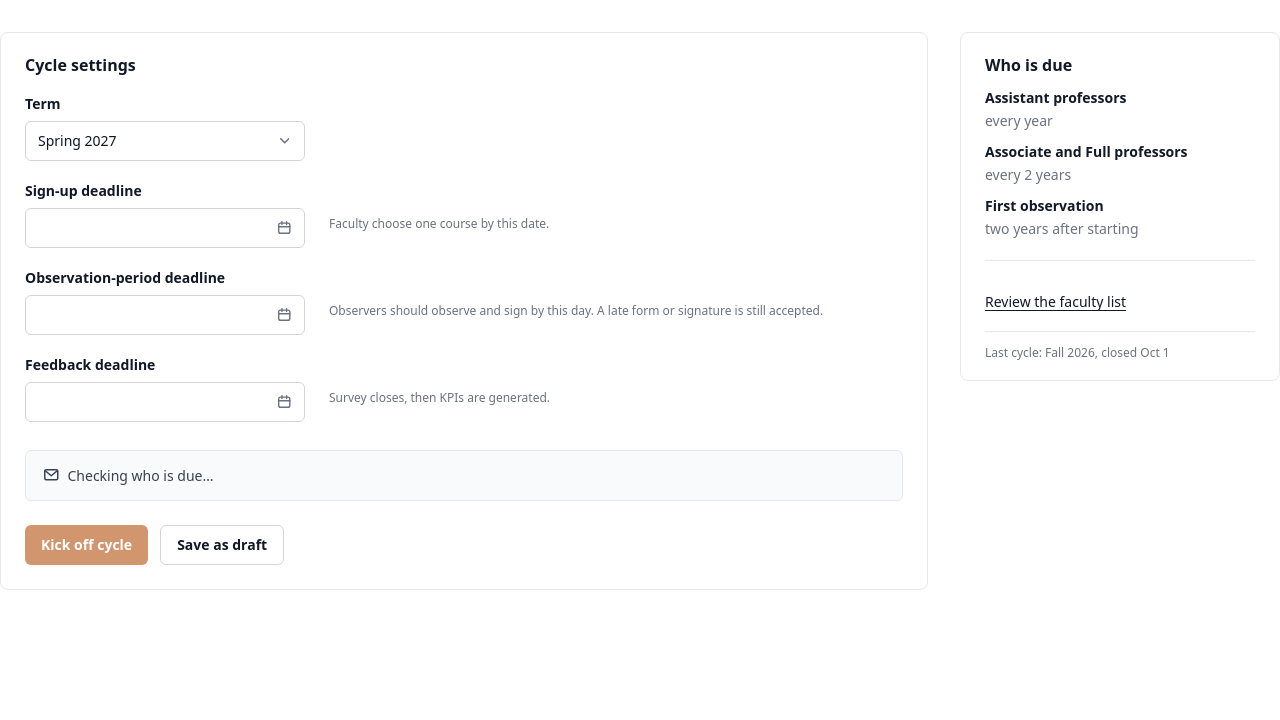
Test case: Cycle page: starting a cycle › shows the server error 400 INVALID_CYCLE as sent and keeps the input
Check: the dropdown labelled "Term" is shown, box [25,121,305,161]
Type "2027-01-15" into the date field labelled "Sign-up deadline". click: (165, 228)
box: [25,208,305,248]
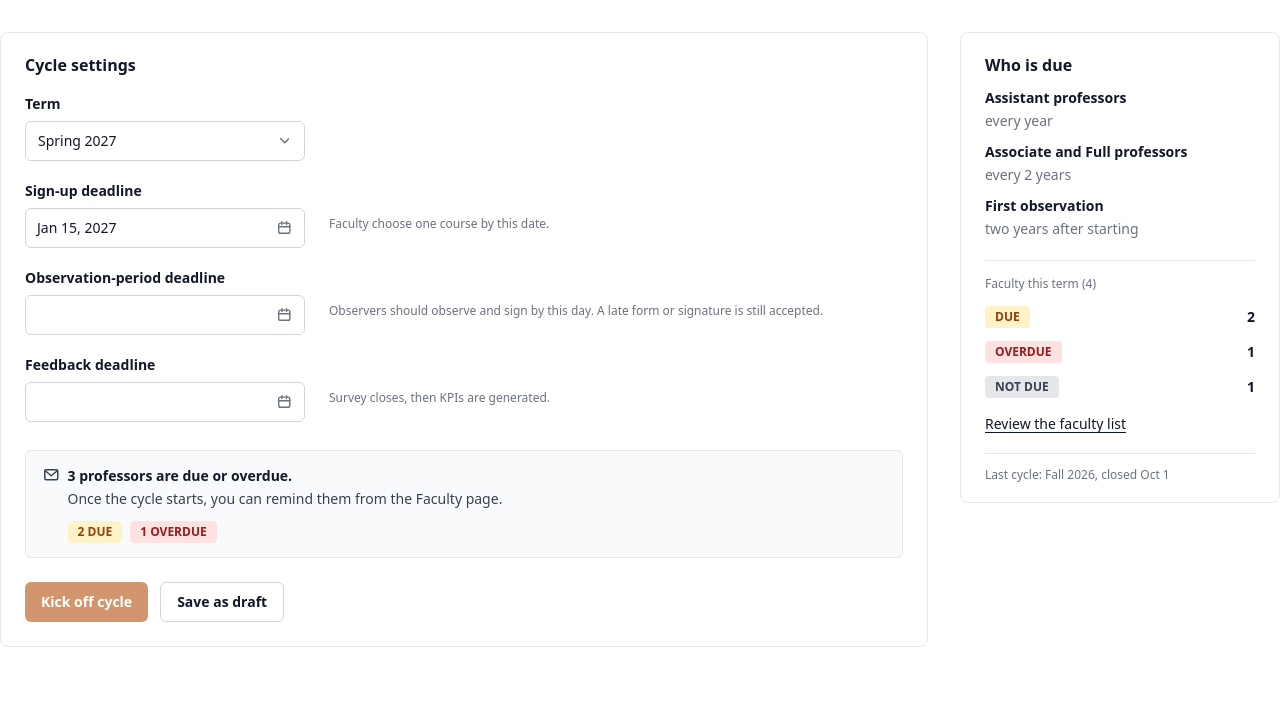
Type "2027-03-01" into the date field labelled "Observation-period deadline". click: (165, 315)
box: [25,295,305,335]
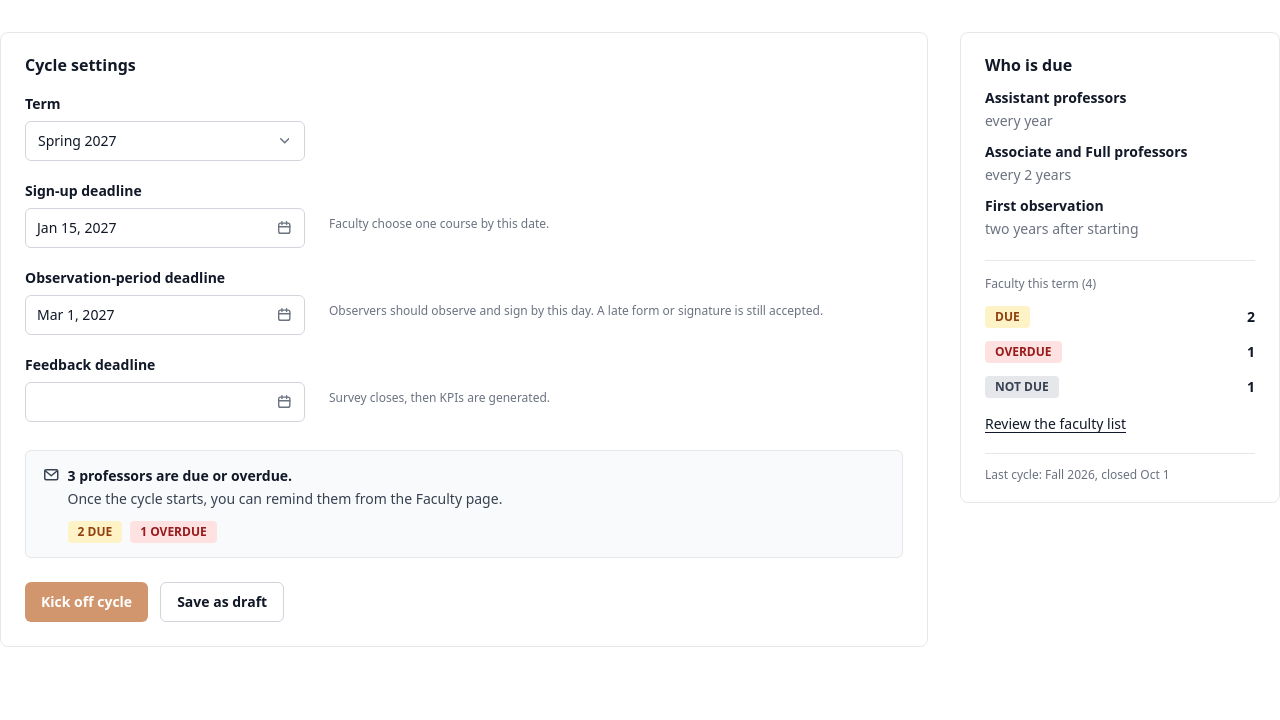
Type "2027-04-01" into the date field labelled "Feedback deadline". click: (165, 402)
box: [25,382,305,422]
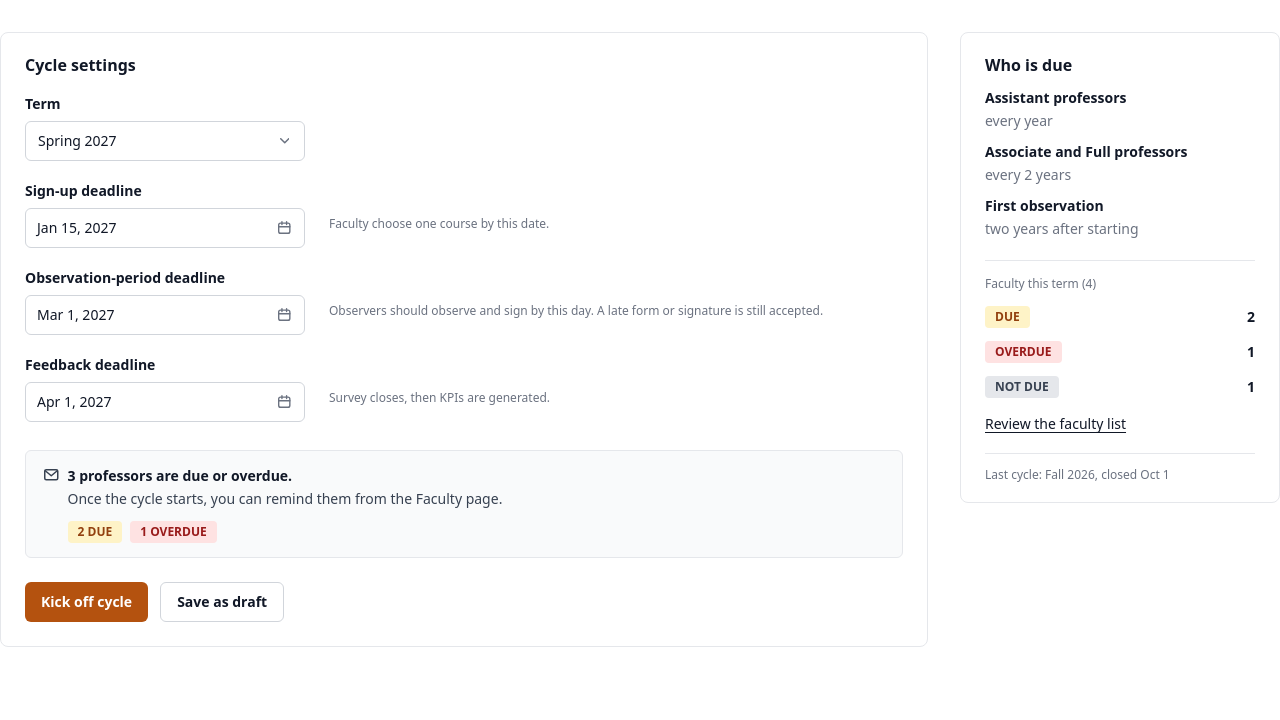
Click the button "Kick off cycle". click: (87, 602)
box: [25,582,148,622]
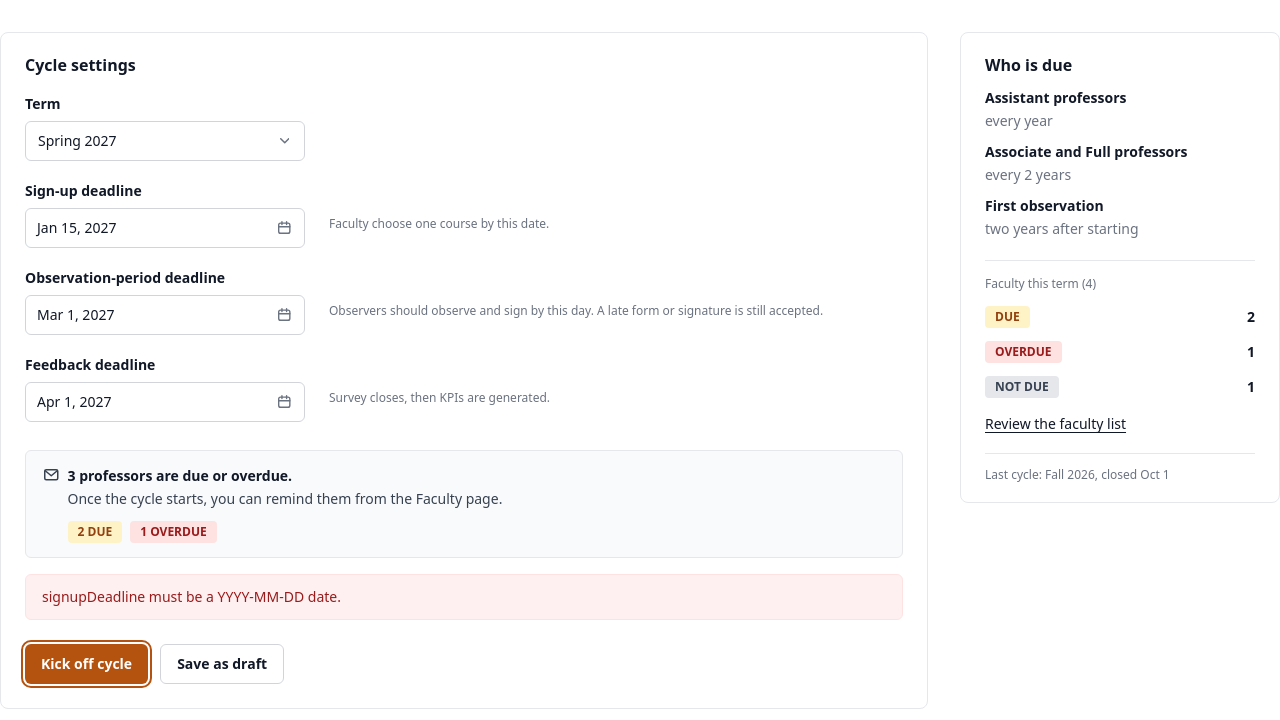
Check: the message reads "signupDeadline must be a YYYY-MM-DD date.", box [42,587,341,606]
